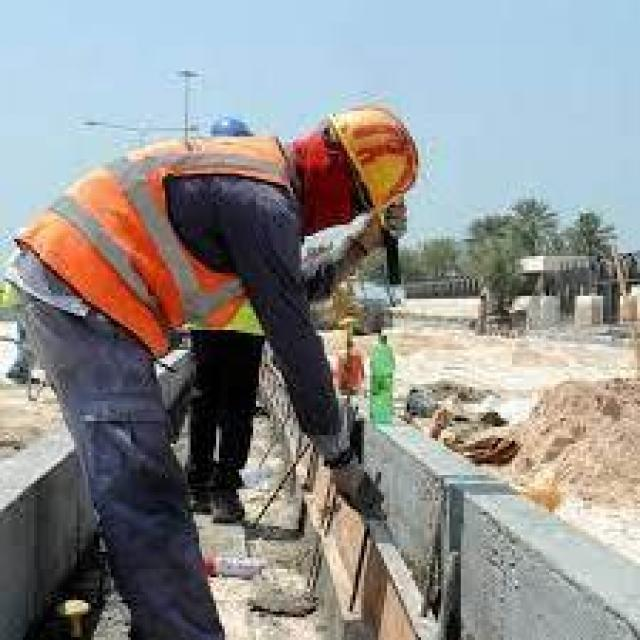reflective_jacket: (2, 134, 321, 358)
safety_helmet: (328, 98, 428, 222)
